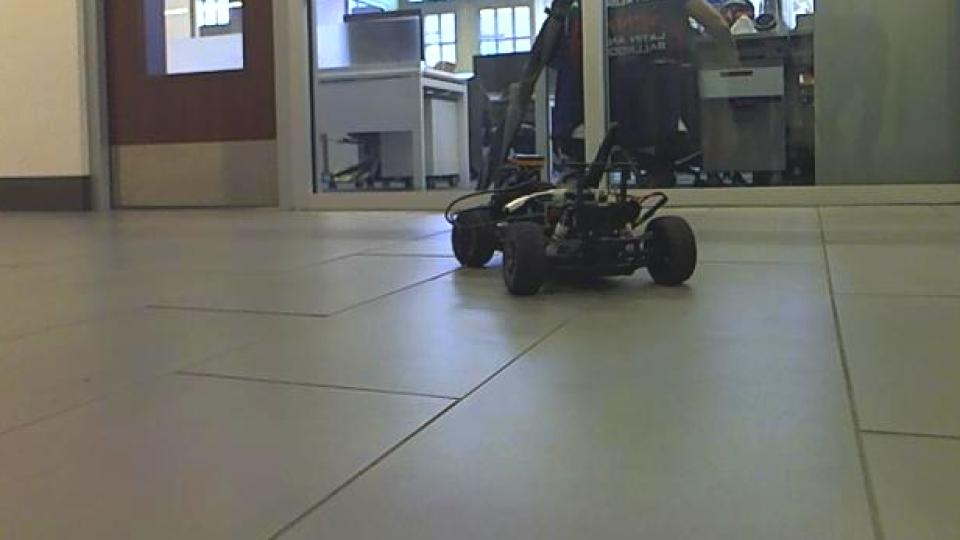car: (443, 122, 701, 298)
